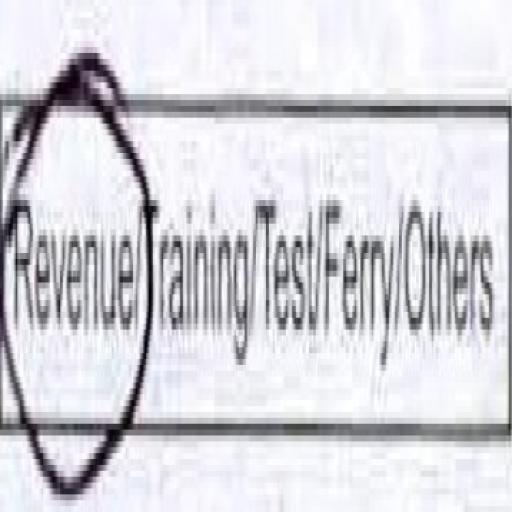check: (0, 17, 144, 512)
